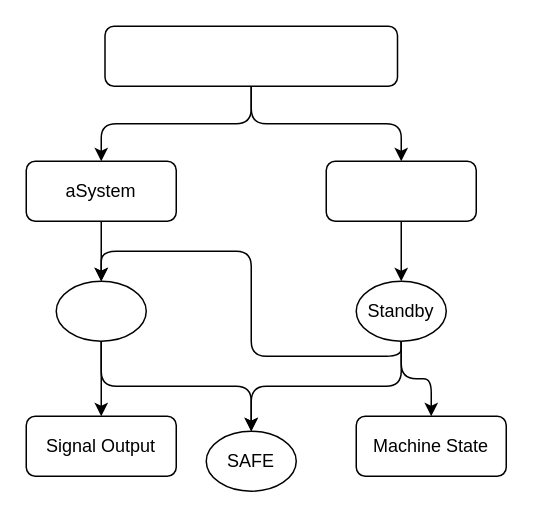
Image size: 533x518. Some labels were removed from this diagram. Each missing label, with the centre of its shape:
Active: point (100, 310)
Active Pin Determines Initial State: point (251, 55)
bSystem: point (400, 190)
